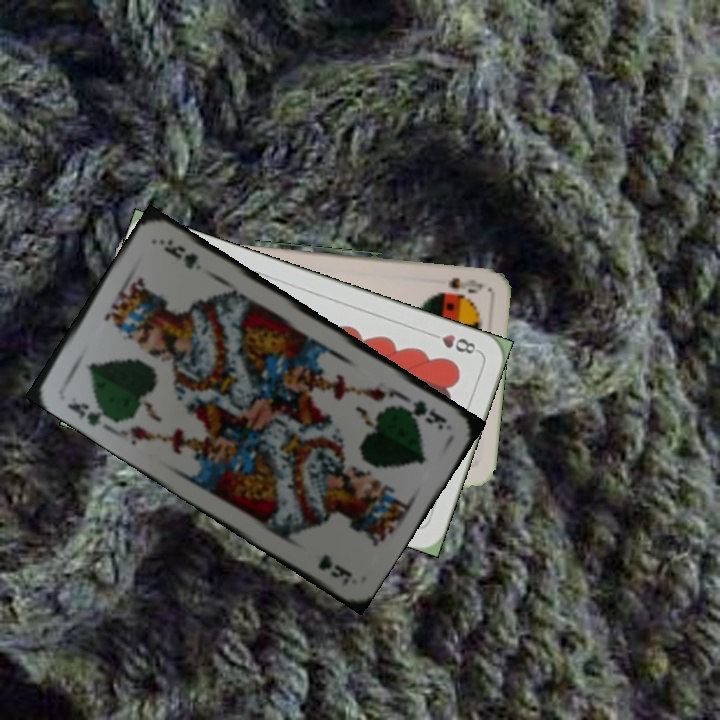GK: (396, 396, 450, 432), (63, 398, 112, 429)
H8: (425, 328, 482, 357)
SO: (445, 273, 486, 296)
